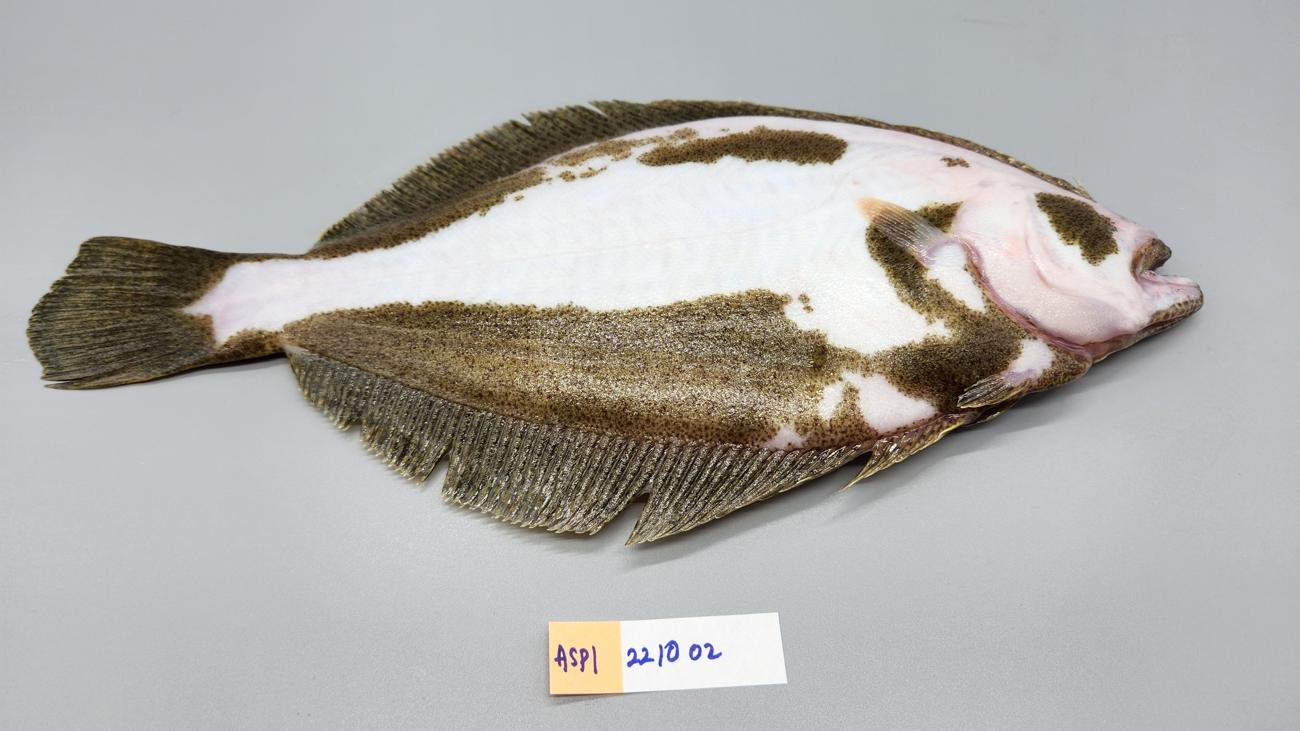SPOUY: (22, 88, 1208, 557)
